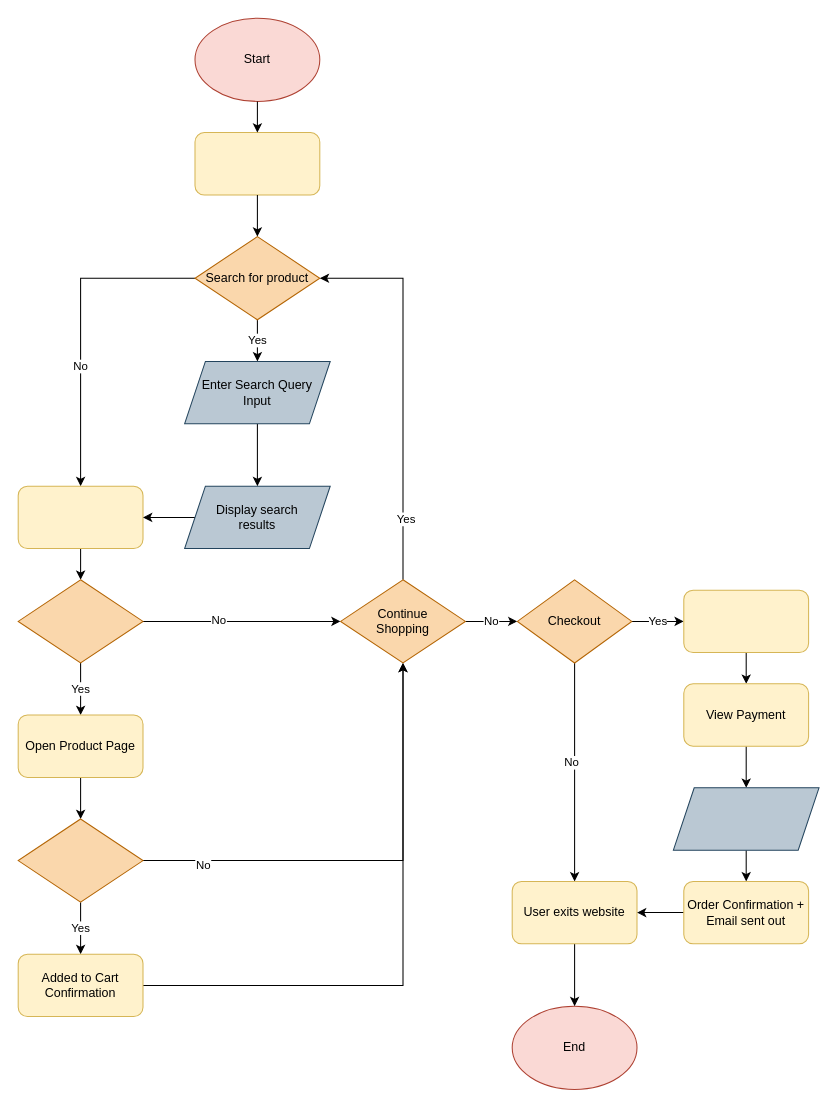
This 837x1108 diagram has some shape labels left out. The centre of each missing label's shape, as x and y in pixels:
"Add Product to Cart" goes at (80,860).
"Enter Payment Info" goes at (745,818).
"Explore products on current page" goes at (80,517).
"User enters website on home page" goes at (257,163).
"View Cart" goes at (746,621).
"View specific product" goes at (80,621).
